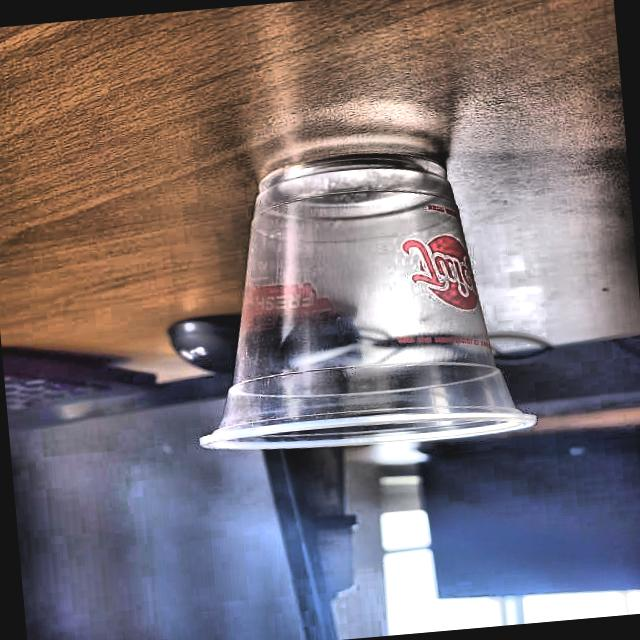plastic cup: (173, 139, 541, 458)
